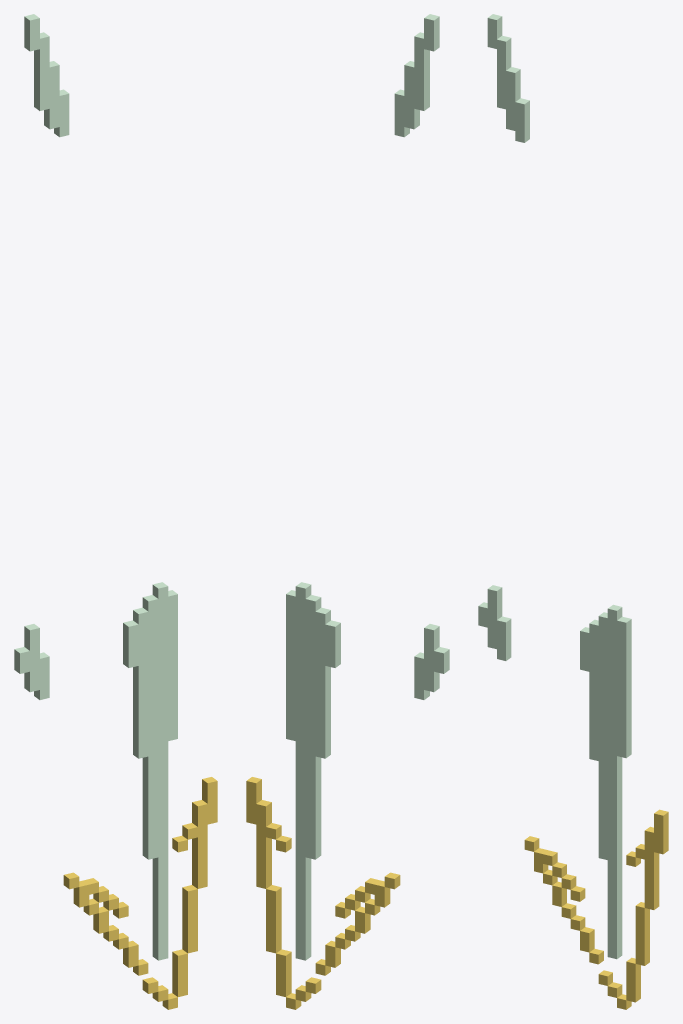
File: Fight_720_2_25_fx.obj
3 views of the same model, side by side, from view 1: azimuth 30°, elevation 25°; view 2: azimuth 150°, elevation 25°; view 3: azimuth 330°, elevation 25° (orthographic). The views are drawn at different scales.
Bounding box in the file's own units: 2 × 9.9 × 0.1.
